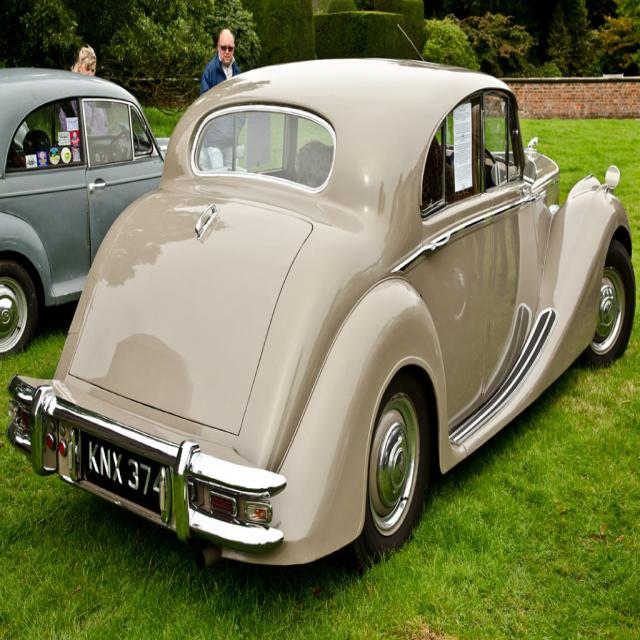car: (7, 14, 634, 602)
